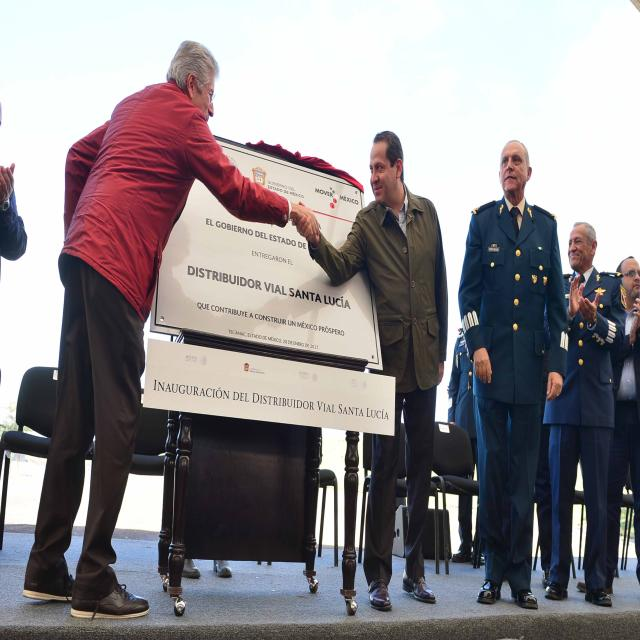body: (15, 33, 324, 623), (291, 130, 448, 610), (452, 134, 570, 610), (537, 218, 628, 612), (0, 80, 39, 410), (606, 254, 640, 596), (444, 322, 488, 568), (174, 548, 245, 584)
